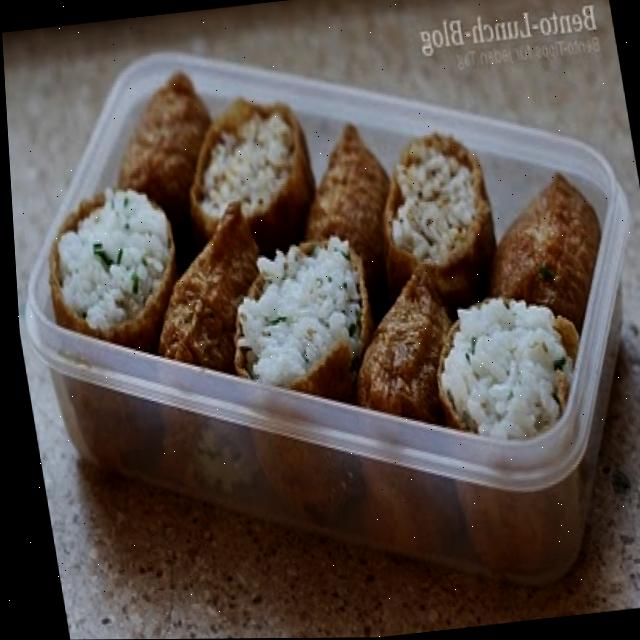寿司卷物: (2, 31, 640, 616)
